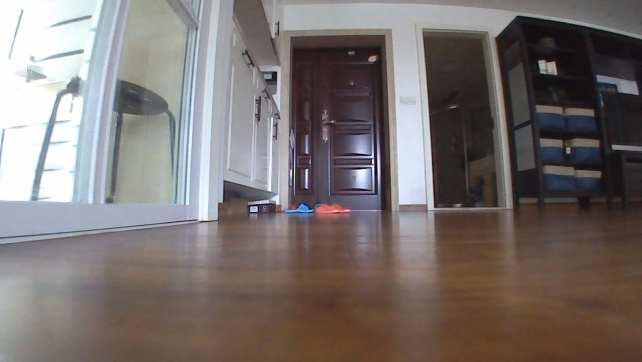door_anno: (281, 27, 401, 213)
slipper: (285, 201, 314, 215)
